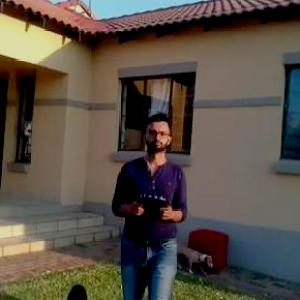follow: (106, 105, 190, 299)
null: (174, 240, 216, 276)
